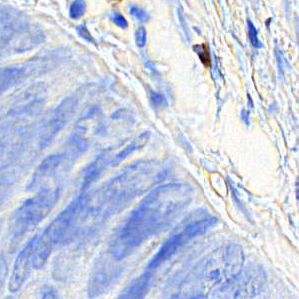Lymphocyte: (191, 42, 215, 68)
